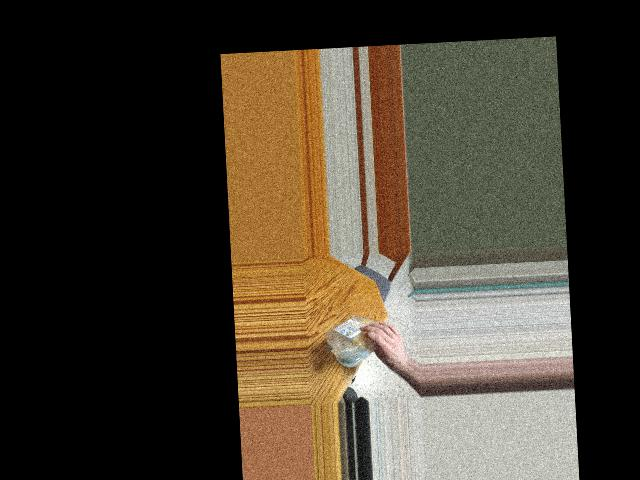cheese: (322, 311, 391, 367)
